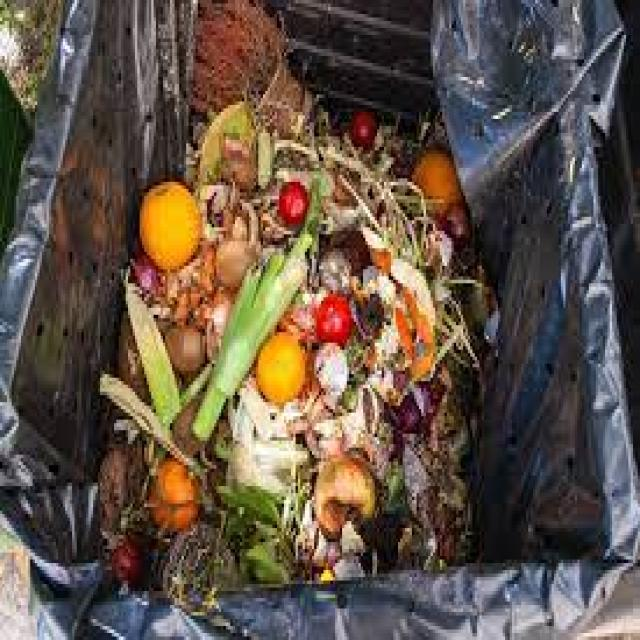Wet: (196, 271, 266, 438), (391, 256, 438, 376), (142, 176, 202, 264), (255, 337, 314, 407), (154, 460, 192, 526), (415, 157, 461, 205), (317, 297, 354, 338), (282, 180, 308, 224)
